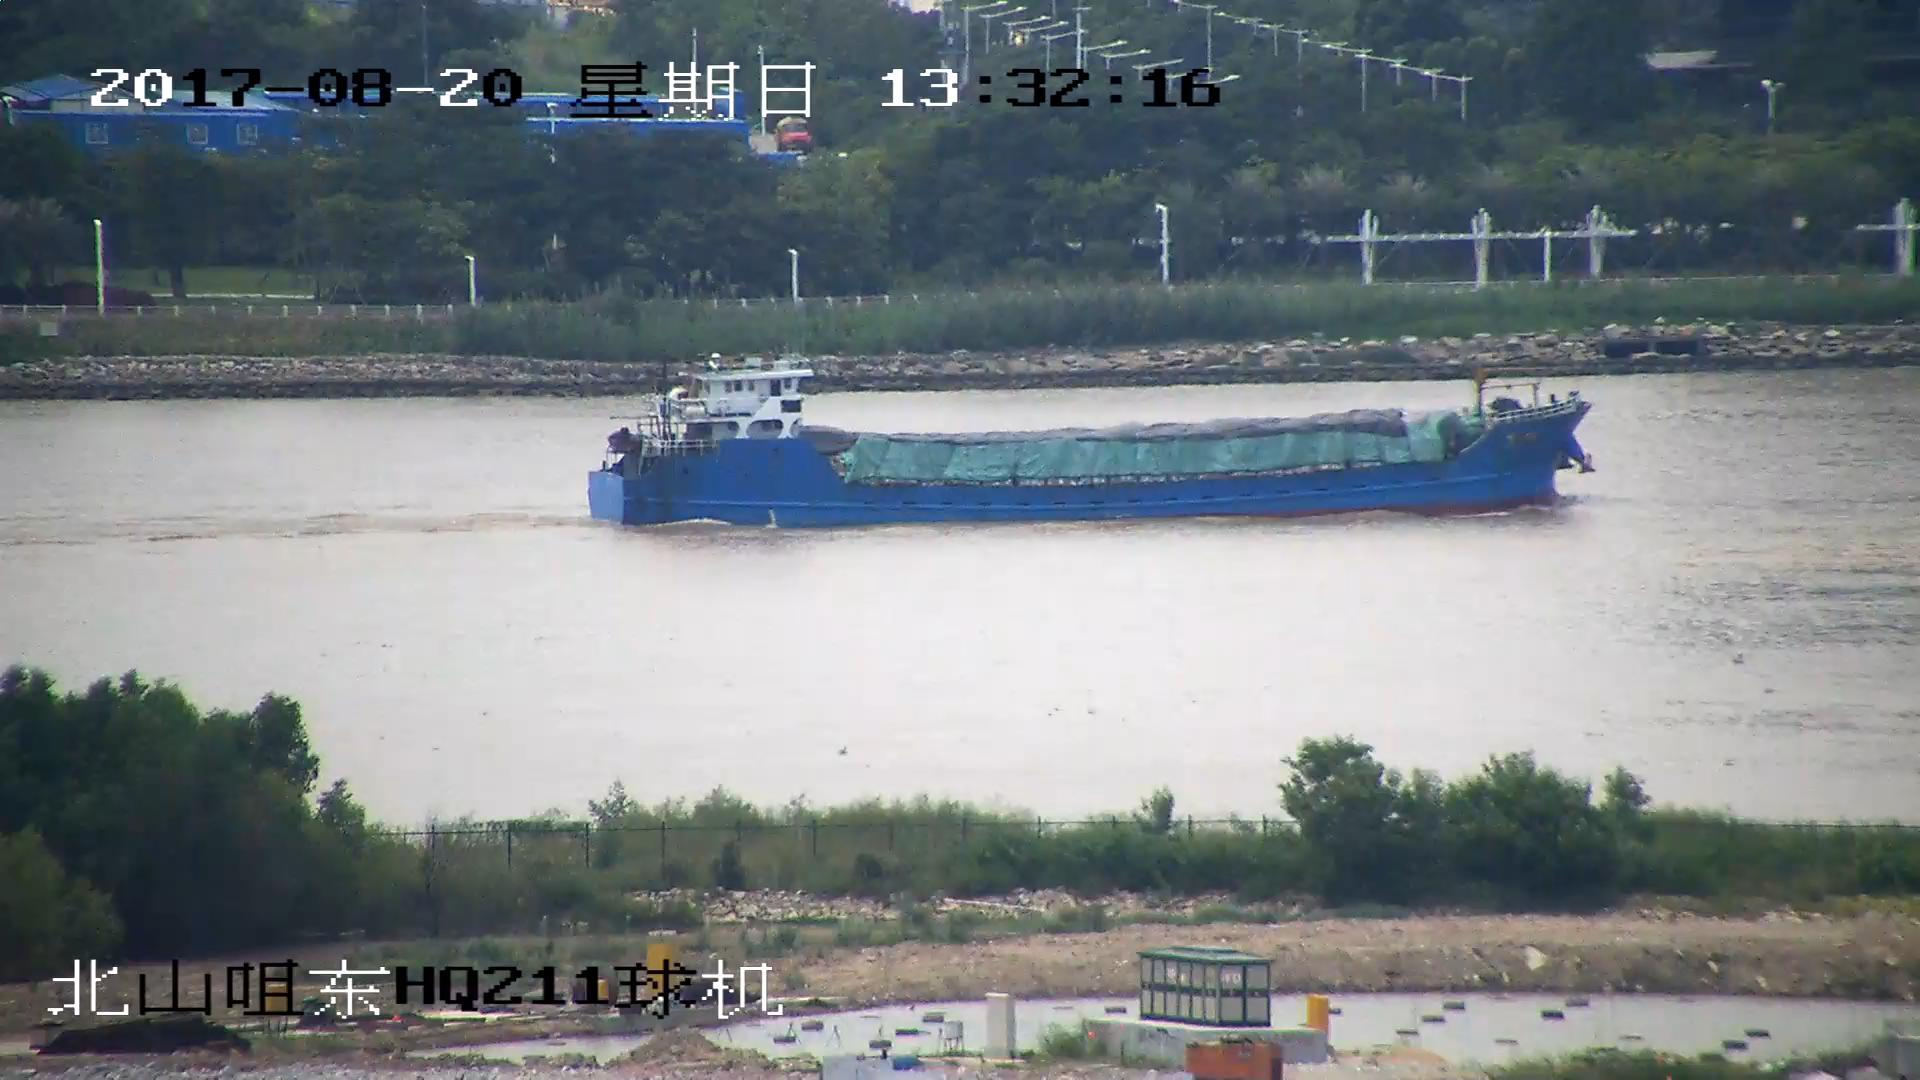Ship: (589, 357, 1594, 529)
